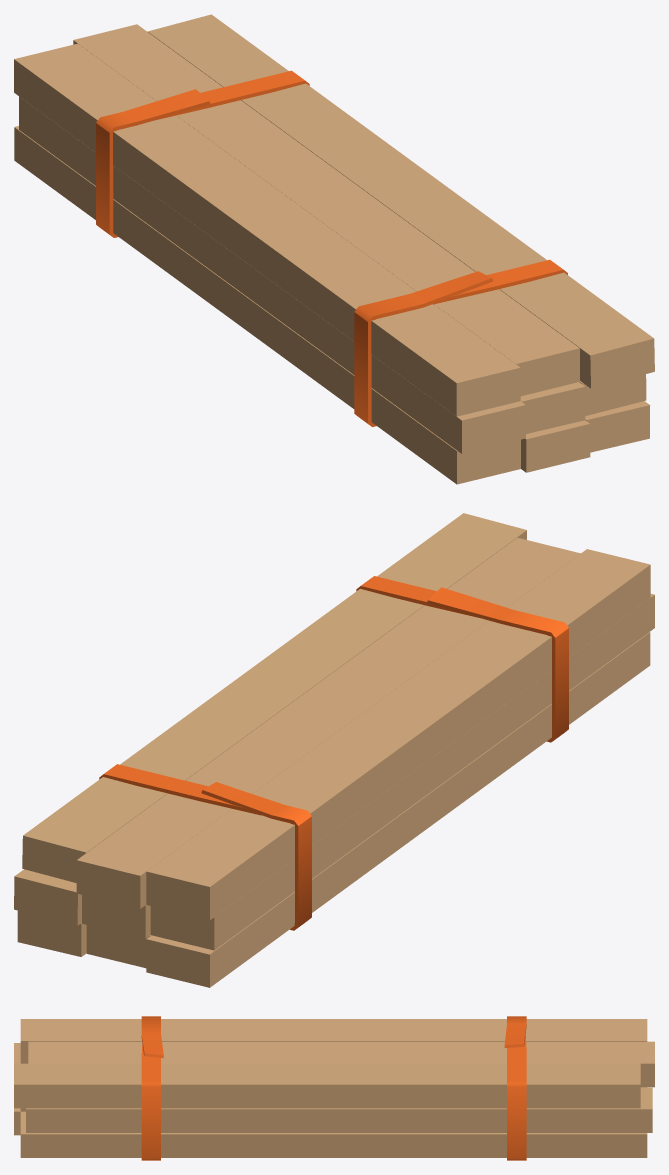
Rendered from lumber_stack.gltf.glb.
3 renders of one model, top to bottom at view 1: azimuth 30°, elevation 25°; view 2: azimuth 150°, elevation 25°; view 3: azimuth 270°, elevation 25°, orthographic. The views are drawn at different scales.
Visible parts, largest first — view 1: lumber_stack; view 2: lumber_stack; view 3: lumber_stack.
Part boxes in pixels (x1=…): lumber_stack: x1=14, y1=14, x2=654, y2=484; lumber_stack: x1=14, y1=513, x2=654, y2=987; lumber_stack: x1=14, y1=1016, x2=654, y2=1160.
Size of the model in its own units: 0.6263 by 0.3527 by 2.46.
